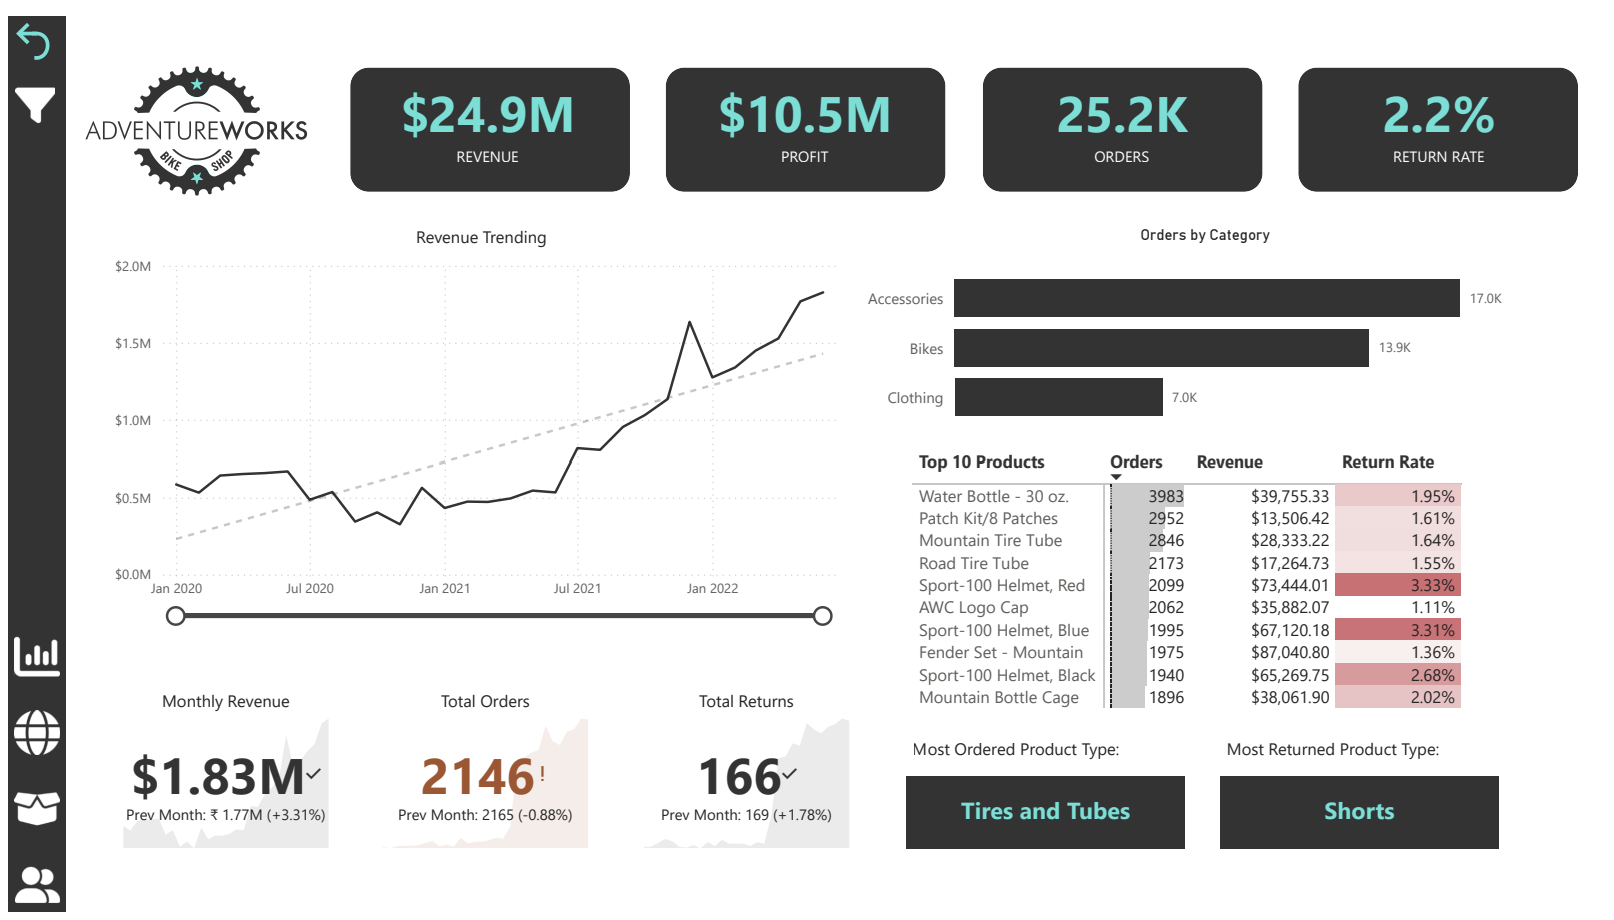

The dashboard page shown, as its layout file describes it:
{"tool":"powerbi","page":{"name":"Exec Dashboard","canvas":[1280,720],"ordinal":0},"visuals":[{"type":"card","fields":{"Values":["Measure Table.Total Profit"]},"box":[520.1,15,241.2,140],"z":0,"group":"g2"},{"type":"image","title":"AW Logo","box":[37.5,18.8,227.5,146.2],"z":0},{"type":"shape","box":[275.2,41.3,225,100],"z":0,"group":"g1"},{"type":"group","id":"g1","title":"KPI Background","box":[275.2,41.3,987.5,100],"z":0,"group":"g3"},{"type":"group","id":"g2","title":"KPI Values","box":[265,15,1006.5,140],"z":1000,"group":"g3"},{"type":"group","id":"g3","title":"KPIs","box":[265,15,1006.2,140],"z":1000},{"type":"card","fields":{"Values":["Measure Table.Total Orders"]},"box":[775.1,15,241.2,140],"z":1000,"group":"g2"},{"type":"shape","box":[1037.7,41.3,225,100],"z":1000,"group":"g1"},{"type":"card","fields":{"Values":["Measure Table.Return Rate"]},"box":[1030.2,15,241.2,140],"z":2000,"group":"g2"},{"type":"shape","box":[783.5,41.3,225,100],"z":2000,"group":"g1"},{"type":"lineChart","title":"Revenue Trending","fields":{"Category":["Calendar Lookup.Year","Calendar Lookup.Start of Quarter","Calendar Lookup.Start of Month"],"Y":["Measure Table.Total Revenue"]},"box":[79.5,168.2,601.3,323.7],"z":2000},{"type":"card","fields":{"Values":["Measure Table.Total Revenue"]},"box":[265,15,241.2,140],"z":3000,"group":"g2"},{"type":"shape","box":[529.4,41.3,225,100],"z":3000,"group":"g1"},{"type":"kpi","title":"Monthly Revenue","fields":{"Goal":["Measure Table.Previous Month Revenue"],"Indicator":["Measure Table.Total Revenue"],"TrendLine":["Calendar Lookup.Start of Month"]},"box":[87.6,541.4,175.1,132.5],"z":3000},{"type":"kpi","title":"Total Orders","fields":{"Goal":["Measure Table.Previous Month Orders"],"Indicator":["Measure Table.Total Orders"],"TrendLine":["Calendar Lookup.Start of Month"]},"box":[296.6,541.4,175.1,132.5],"z":4000},{"type":"kpi","title":"Total Returns","fields":{"Goal":["Measure Table.Previous Month Returns"],"Indicator":["Measure Table.Total Returns"],"TrendLine":["Calendar Lookup.Start of Month"]},"box":[505.7,541.4,175.1,132.5],"z":5000},{"type":"clusteredBarChart","title":"Orders by Category","fields":{"Category":["Product Category Lookup.CategoryName"],"Y":["Measure Table.Total Orders"]},"box":[680.8,168.2,563.3,175.1],"z":6000},{"type":"pivotTable","fields":{"Rows":["Product Lookup.ProductName"],"Values":["Measure Table.Total Orders","Measure Table.Total Revenue","Measure Table.Return Rate"]},"box":[722,343.4,541.1,221.1],"z":7000},{"type":"card","fields":{"Values":["Min(Product Subcategories Lookup.SubcategoryName)"]},"box":[722.5,611.2,223.8,57.5],"z":8000},{"type":"textbox","box":[722,575,240.7,32.5],"z":9000},{"type":"card","fields":{"Values":["Min(Product Subcategories Lookup.SubcategoryName)"]},"box":[975,611.2,223.8,57.5],"z":10000},{"type":"textbox","box":[975.6,575,238,28.6],"z":11000},{"type":"shape","title":"Left Nav Background","box":[0,0,46.2,720],"z":12000},{"type":"actionButton","box":[0.6,492.5,46.2,43.8],"z":13000},{"type":"actionButton","box":[0.6,615,46.2,43.8],"z":14000},{"type":"actionButton","box":[0.6,676.2,46.2,43.8],"z":15000},{"type":"actionButton","box":[0.6,553.8,46.2,43.8],"z":16000},{"type":"actionButton","box":[0,0,46.2,40],"z":17000},{"type":"actionButton","box":[1.2,51.2,46.2,40],"z":18000}]}

Visuals, with their boxes on the page's 1280x720 design canvas (x1, y1, x2, y2). These are canvas units, not pixel positions in the 1614x920 screenshot, which may show the page scaled, cropped or inside an application window:
card - Measure Table.Total Profit: x1=520 y1=15 x2=761 y2=155
"AW Logo" image: x1=38 y1=19 x2=265 y2=165
shape: x1=275 y1=41 x2=500 y2=141
"KPI Background" group: x1=275 y1=41 x2=1263 y2=141
"KPI Values" group: x1=265 y1=15 x2=1272 y2=155
"KPIs" group: x1=265 y1=15 x2=1271 y2=155
card - Measure Table.Total Orders: x1=775 y1=15 x2=1016 y2=155
shape: x1=1038 y1=41 x2=1263 y2=141
card - Measure Table.Return Rate: x1=1030 y1=15 x2=1271 y2=155
shape: x1=784 y1=41 x2=1008 y2=141
"Revenue Trending" lineChart: x1=80 y1=168 x2=681 y2=492
card - Measure Table.Total Revenue: x1=265 y1=15 x2=506 y2=155
shape: x1=529 y1=41 x2=754 y2=141
"Monthly Revenue" kpi: x1=88 y1=541 x2=263 y2=674
"Total Orders" kpi: x1=297 y1=541 x2=472 y2=674
"Total Returns" kpi: x1=506 y1=541 x2=681 y2=674
"Orders by Category" clusteredBarChart: x1=681 y1=168 x2=1244 y2=343
pivotTable - Product Lookup.ProductName x Measure Table.Total Orders: x1=722 y1=343 x2=1263 y2=564
card - Min(Product Subcategories Lookup.SubcategoryName): x1=722 y1=611 x2=946 y2=669
textbox: x1=722 y1=575 x2=963 y2=608
card - Min(Product Subcategories Lookup.SubcategoryName): x1=975 y1=611 x2=1199 y2=669
textbox: x1=976 y1=575 x2=1214 y2=604
"Left Nav Background" shape: x1=0 y1=0 x2=46 y2=720
actionButton: x1=1 y1=492 x2=47 y2=536
actionButton: x1=1 y1=615 x2=47 y2=659
actionButton: x1=1 y1=676 x2=47 y2=720
actionButton: x1=1 y1=554 x2=47 y2=598
actionButton: x1=0 y1=0 x2=46 y2=40
actionButton: x1=1 y1=51 x2=47 y2=91
